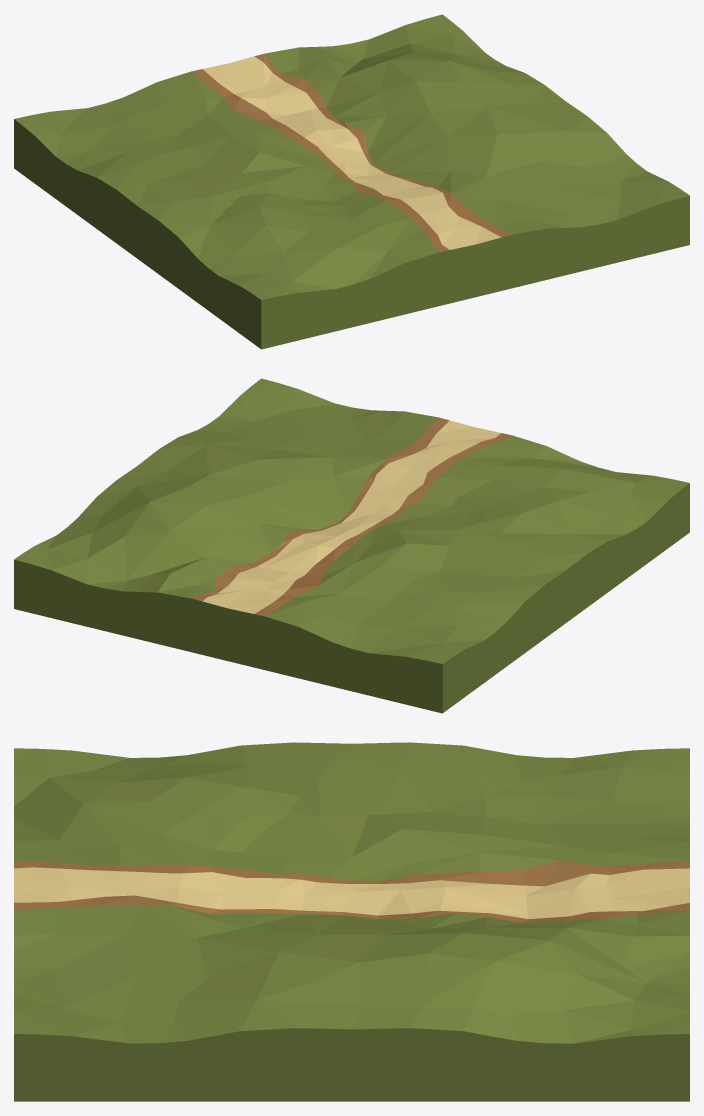
The model's file is Terrian_Road_Straight_Flat-01.fbx.
3 views of the same model, one above another, from view 1: azimuth 30°, elevation 25°; view 2: azimuth 150°, elevation 25°; view 3: azimuth 270°, elevation 25° (orthographic). The views are drawn at different scales.
Visible parts, largest first — view 1: Terrian_Road_Straight_Flat-01; view 2: Terrian_Road_Straight_Flat-01; view 3: Terrian_Road_Straight_Flat-01.
Boxes of the visible parts, x1,y1,x2,y2 form: Terrian_Road_Straight_Flat-01: [14, 14, 689, 349]; Terrian_Road_Straight_Flat-01: [14, 378, 689, 713]; Terrian_Road_Straight_Flat-01: [14, 742, 689, 1101].
Bounding box in the file's own units: 3600 × 570 × 3600.
1 material, 1 textured.
